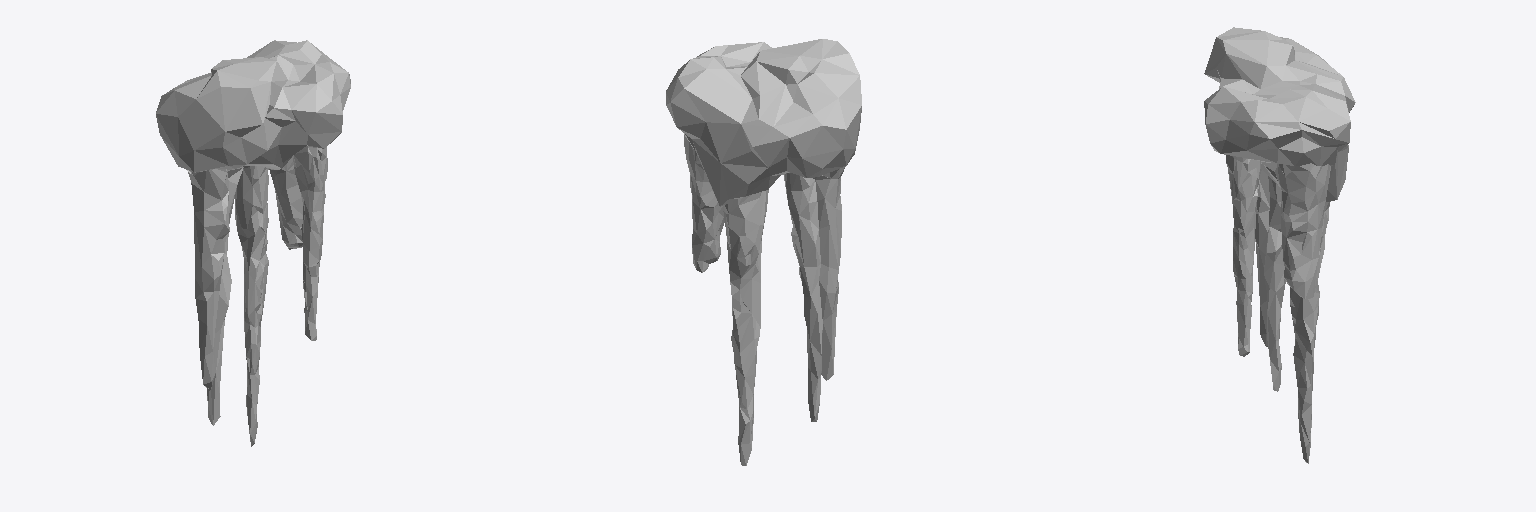
The model's file is Rock Stalactite 1.obj.
The picture shows the model from 3 angles: view 1: azimuth 30°, elevation 25°; view 2: azimuth 150°, elevation 25°; view 3: azimuth 270°, elevation 25°; orthographic projection.
Visible parts, largest first — view 1: SM_Cave_Rocks_Stalactite_01; view 2: SM_Cave_Rocks_Stalactite_01; view 3: SM_Cave_Rocks_Stalactite_01.
Part boxes in pixels (x1,y1,x2,y2): SM_Cave_Rocks_Stalactite_01: (156,40,350,446); SM_Cave_Rocks_Stalactite_01: (666,39,861,465); SM_Cave_Rocks_Stalactite_01: (1204,27,1355,463).
Bounding box in the file's own units: 264 × 573 × 194.